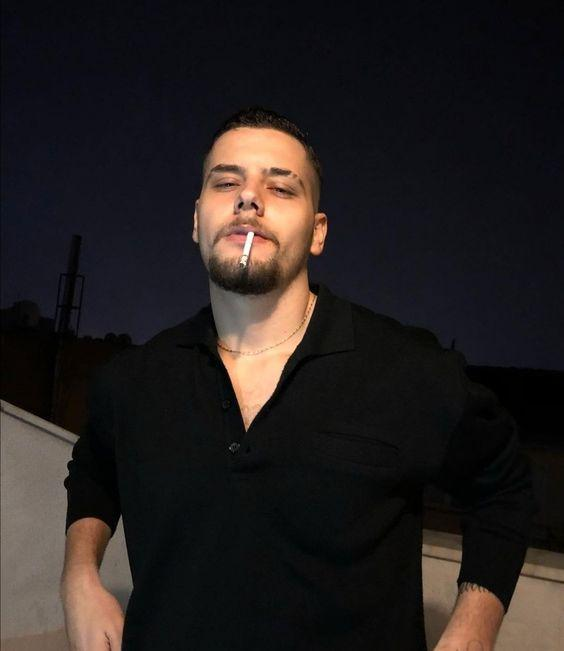cigarette: (239, 231, 254, 268)
